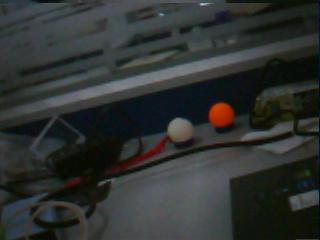oball: (209, 101, 233, 127)
